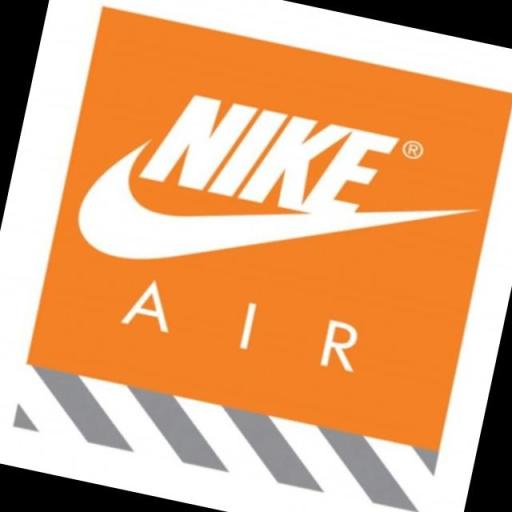Nike: (66, 125, 481, 335), (134, 84, 402, 235)
